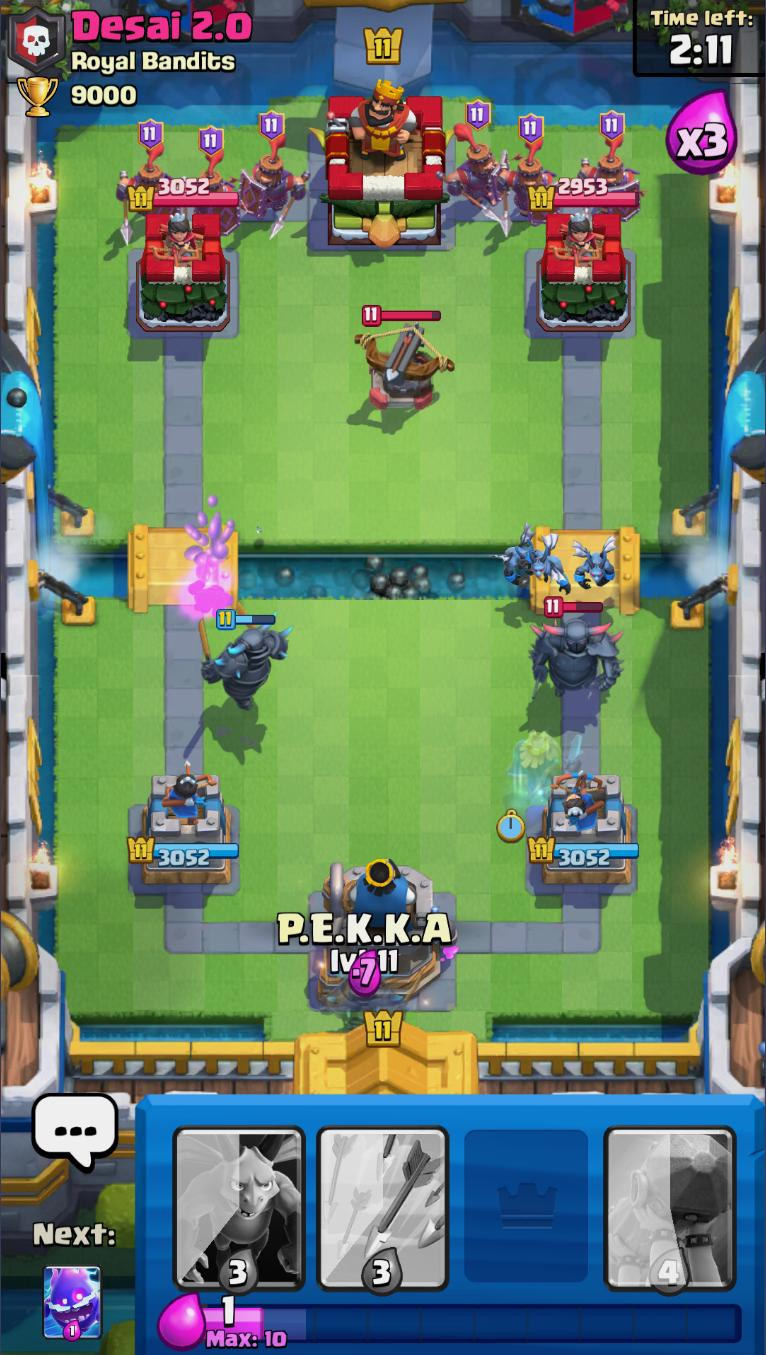ArrowDeck: (311, 1099, 454, 1296)
BattleRamDeck: (599, 1094, 741, 1296)
ElectroSpiritNext: (41, 1263, 103, 1343)
Elixir: (201, 1296, 741, 1351)
Empty: (456, 1096, 597, 1294)
EnemyTower: (136, 211, 234, 331), (538, 209, 632, 333), (129, 178, 239, 212), (529, 178, 640, 211)
EvoRoyalRecruit: (238, 109, 311, 242), (495, 112, 561, 238), (112, 119, 175, 248), (441, 96, 502, 225), (578, 110, 645, 225), (183, 125, 241, 237)
KingTower: (311, 79, 459, 246)
MinionsDeck: (164, 1096, 313, 1294)
MyKingTower: (317, 860, 460, 1007)
MyMinion: (519, 534, 570, 593), (571, 534, 620, 587), (491, 529, 536, 584)
MyPekka: (197, 605, 288, 712)
MyPrincessTower: (129, 771, 240, 889), (531, 773, 639, 889)
MyPrincessTowerHP: (126, 836, 241, 867), (531, 835, 640, 866)
MyRoyaleGhost: (510, 727, 590, 800)
Pekka: (527, 599, 620, 701)
PrincessTower: (550, 211, 605, 264), (149, 213, 204, 264)
XBow: (354, 303, 457, 409)
